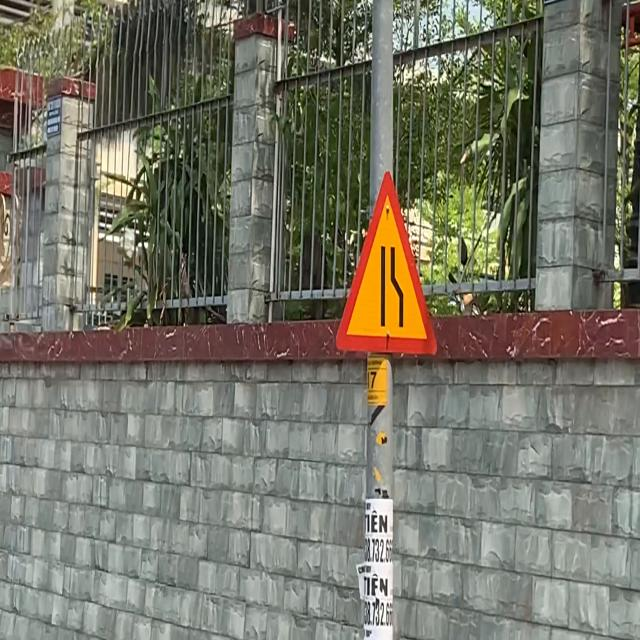Nguy hiem: (334, 169, 438, 355)
